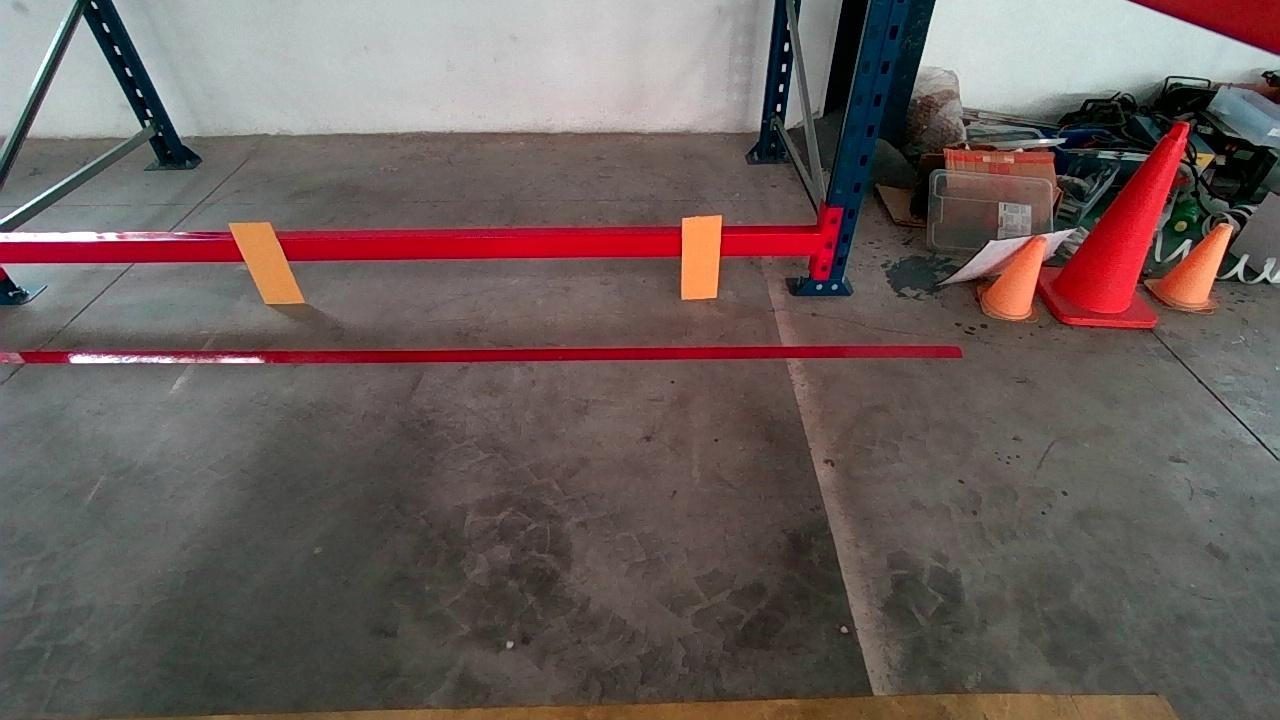h_rack: (3, 215, 820, 270)
orange_strip: (230, 221, 303, 302), (681, 215, 721, 297)
red_line: (5, 338, 957, 373)
yellow_line: (167, 680, 1178, 720)
